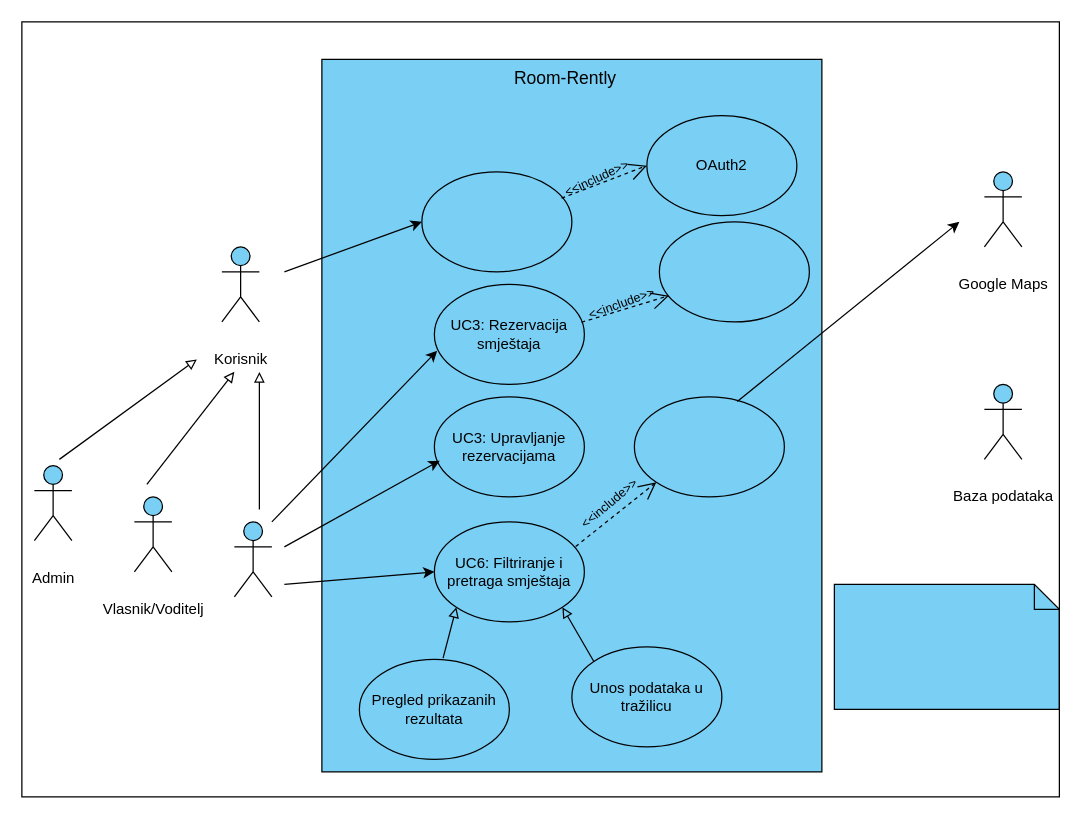
The diagram is 1081 pixels wide and 819 high, and some of its shapes have lost their labels. Here are the shapes that lost their labels. From the top down, the box of each, then its label:
(421, 171, 572, 272): UC1: Prijava i registracija korisnika
(658, 221, 809, 322): Automatizirana potvrda na email
(633, 396, 784, 497): UC11: Integracija s Google Maps API-jem
(233, 521, 272, 597): Gost
(833, 583, 1059, 709): Svi obrasci uporabe komuniciraju s bazom podataka
